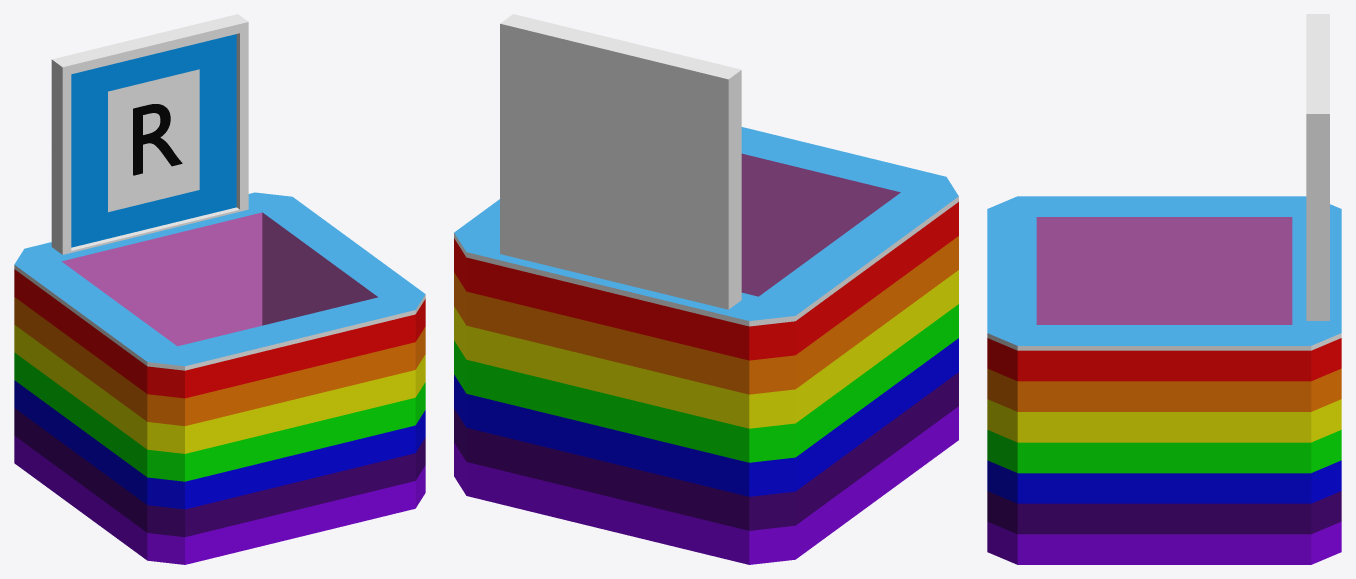
3 views of the same model, side by side, from view 1: azimuth 30°, elevation 25°; view 2: azimuth 150°, elevation 25°; view 3: azimuth 270°, elevation 25° (orthographic). The views are drawn at different scales.
Parts seen in each view (by area): view 1: Cube.001, Text; view 2: Cube.001; view 3: Cube.001.
Boxes of the visible parts, left/top/right/bottom form: Cube.001: left=14, top=14, right=425, bottom=564; Text: left=133, top=104, right=182, bottom=175; Cube.001: left=454, top=14, right=958, bottom=564; Cube.001: left=987, top=14, right=1341, bottom=564.
Size of the model in its own units: 383 by 508 by 383.
